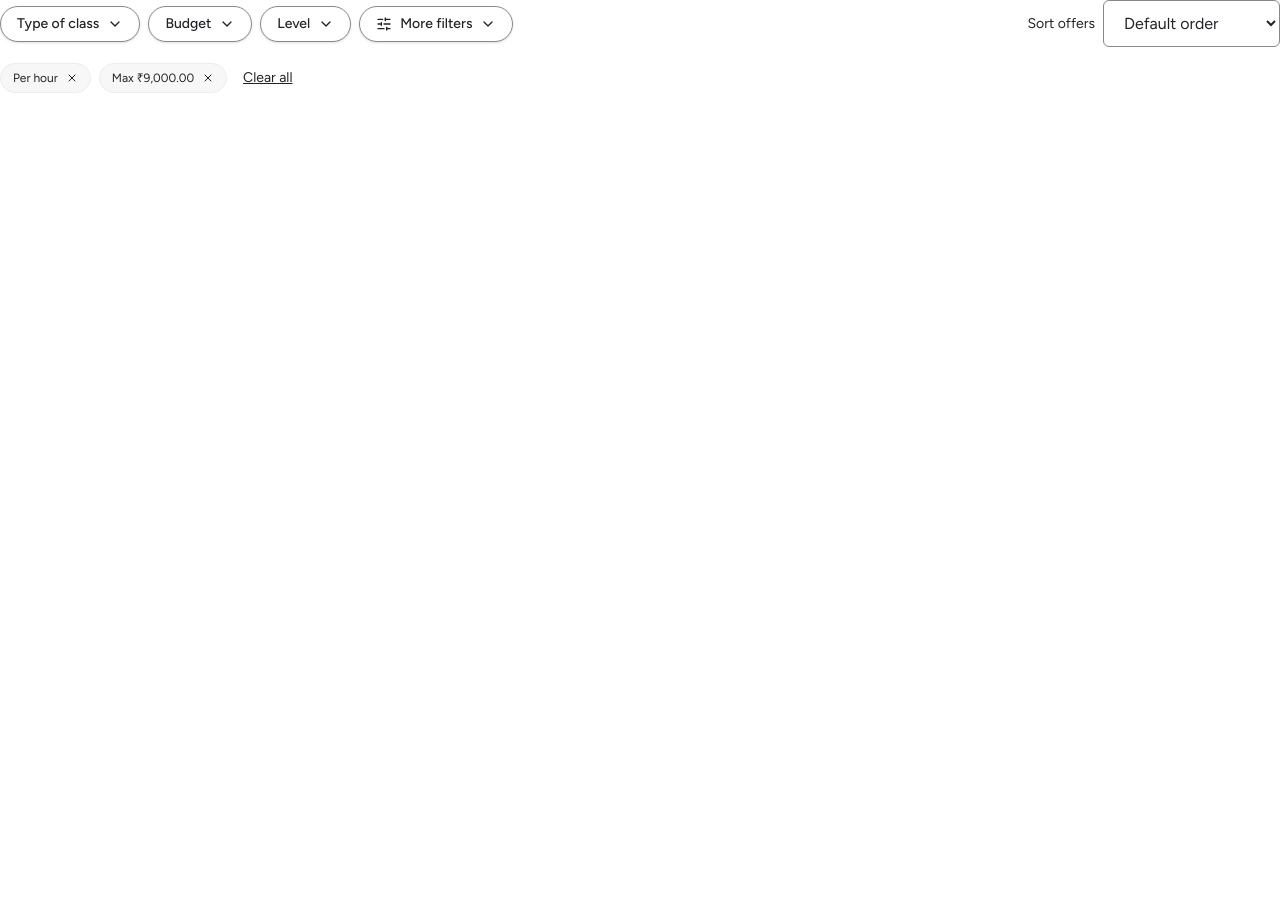
Test: budget defaults explicitly to hourly, preserves an imported higher limit and validates ranges
Later steps or results of the test are not shown.
Click the button "Budget" at (200, 24), box [148,6,252,42]
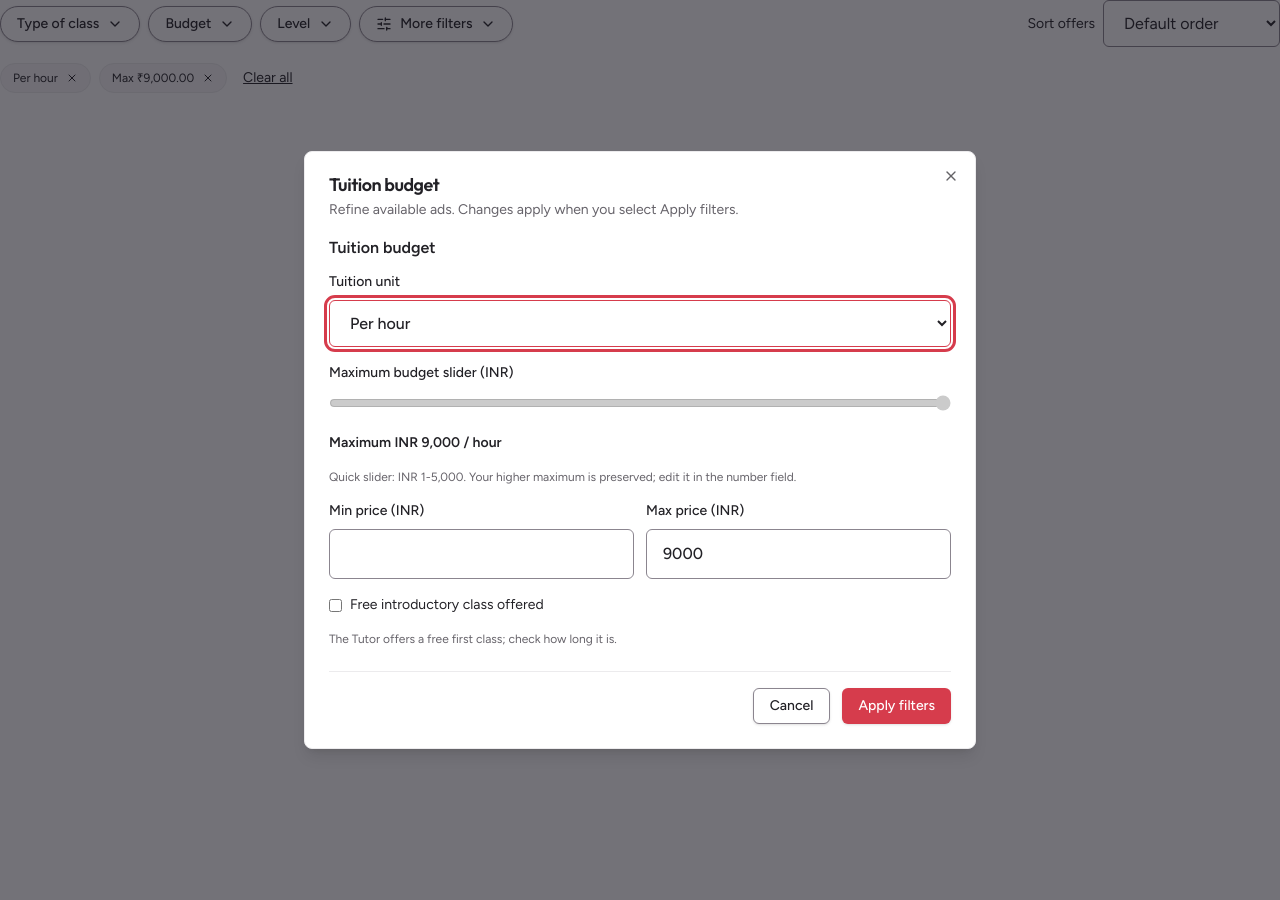
expect the number field labelled "Max price (INR)" holds "9000": met, box [646,529,951,579]
expect the slider is disabled: met, box [329,395,951,411]
Type "10000" into the number field labelled "Min price (INR)" at (482, 554), box [329,529,634,579]
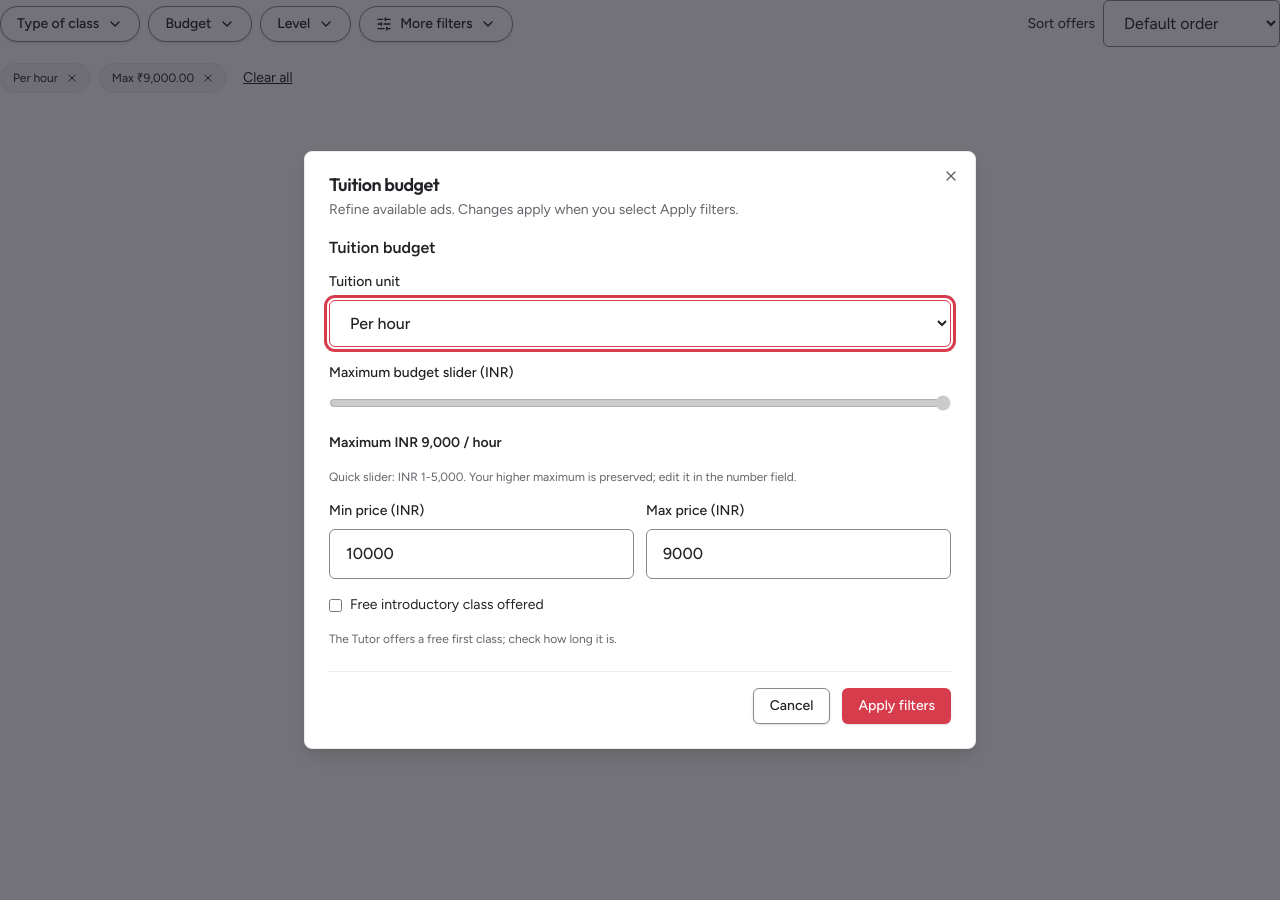
Click the button "Apply filters" at (897, 706), box [842,688,951,724]
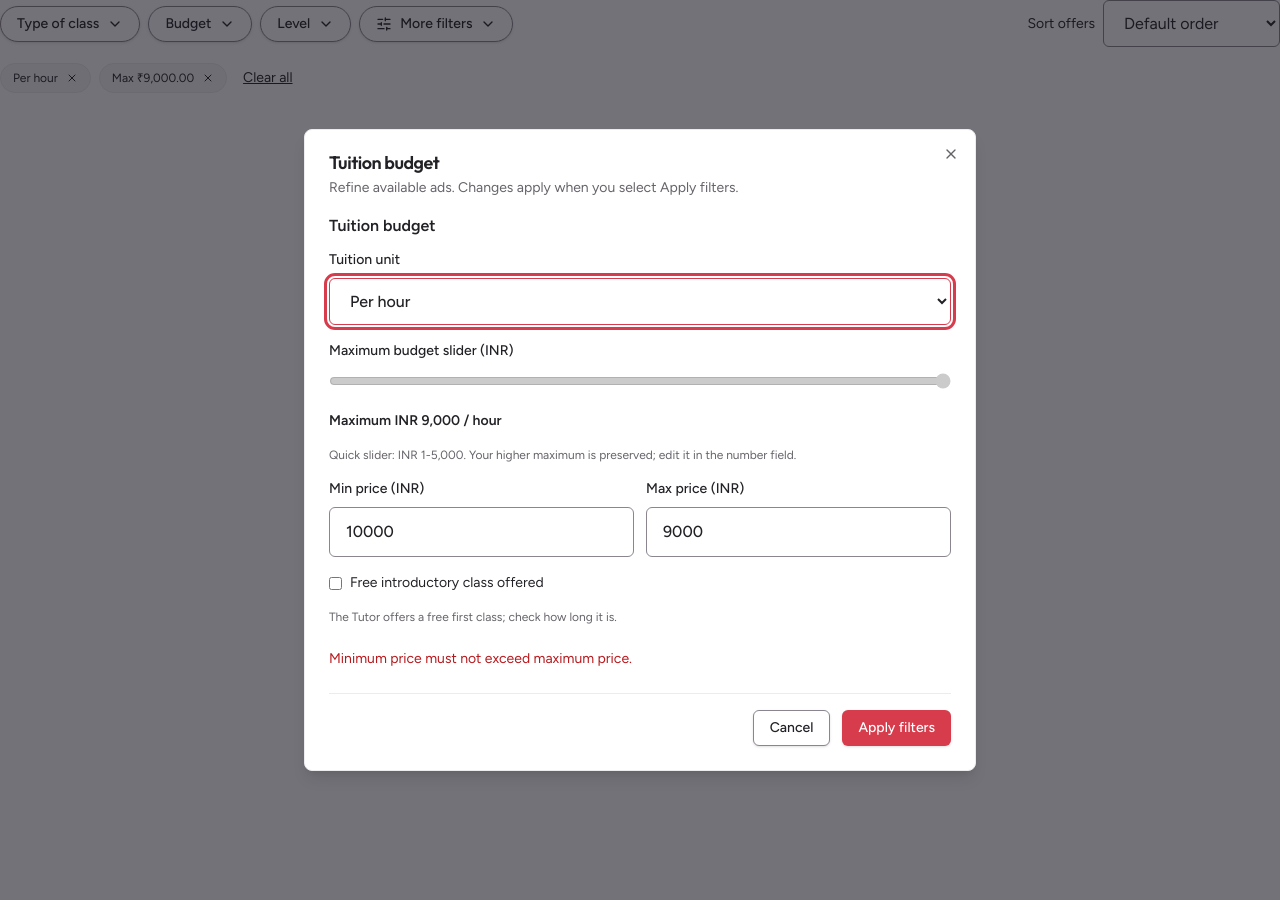
expect the message shows "Minimum price": met, box [329,650,632,667]
